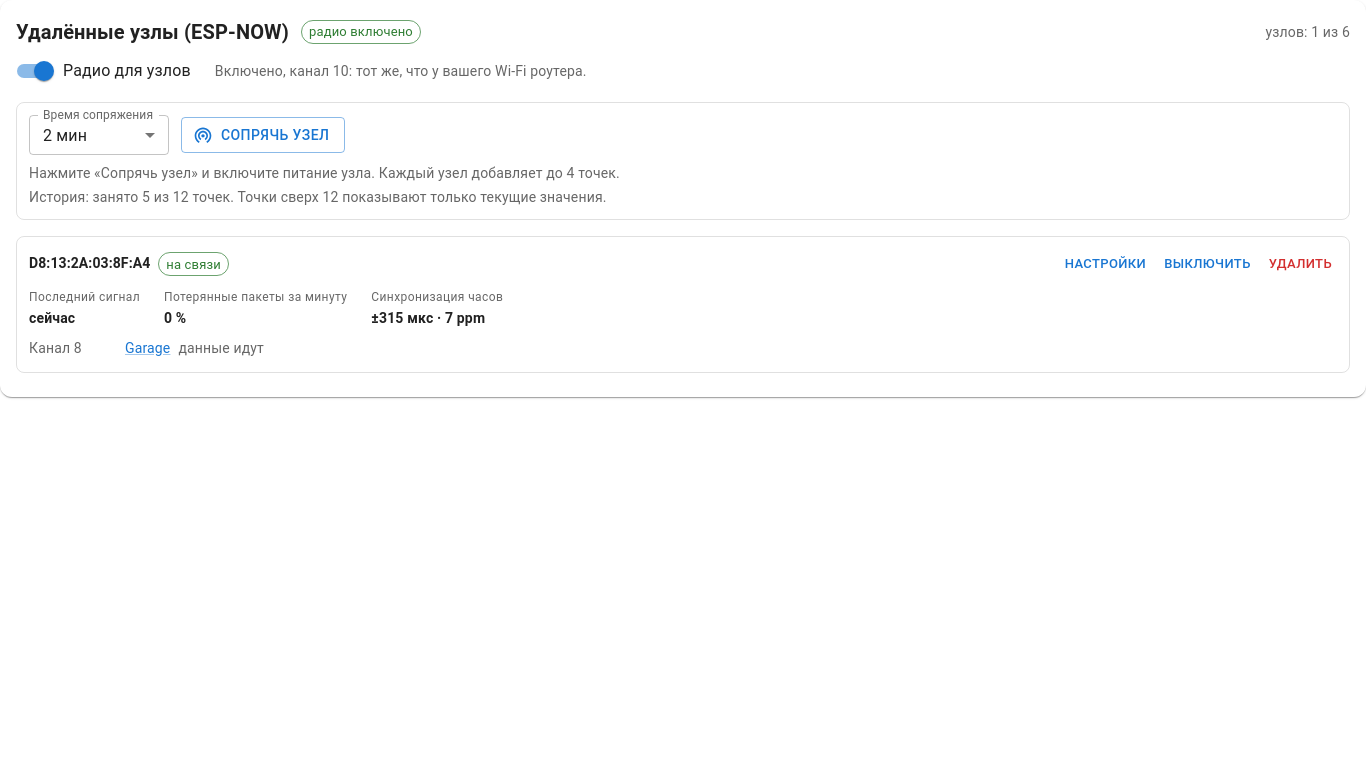
Scenario: NodesPanel (fw 1.1.7, root espnow-nodes-ui) › the dialog starts from the hub's config[] (ESPNOW_API aeacb18), not the channel list
The width and height of the screenshot is (1366, 768).
Step 1. Click the button "Настройки" → (1105, 264), box top-left (1060, 249), bottom-right (1151, 280)
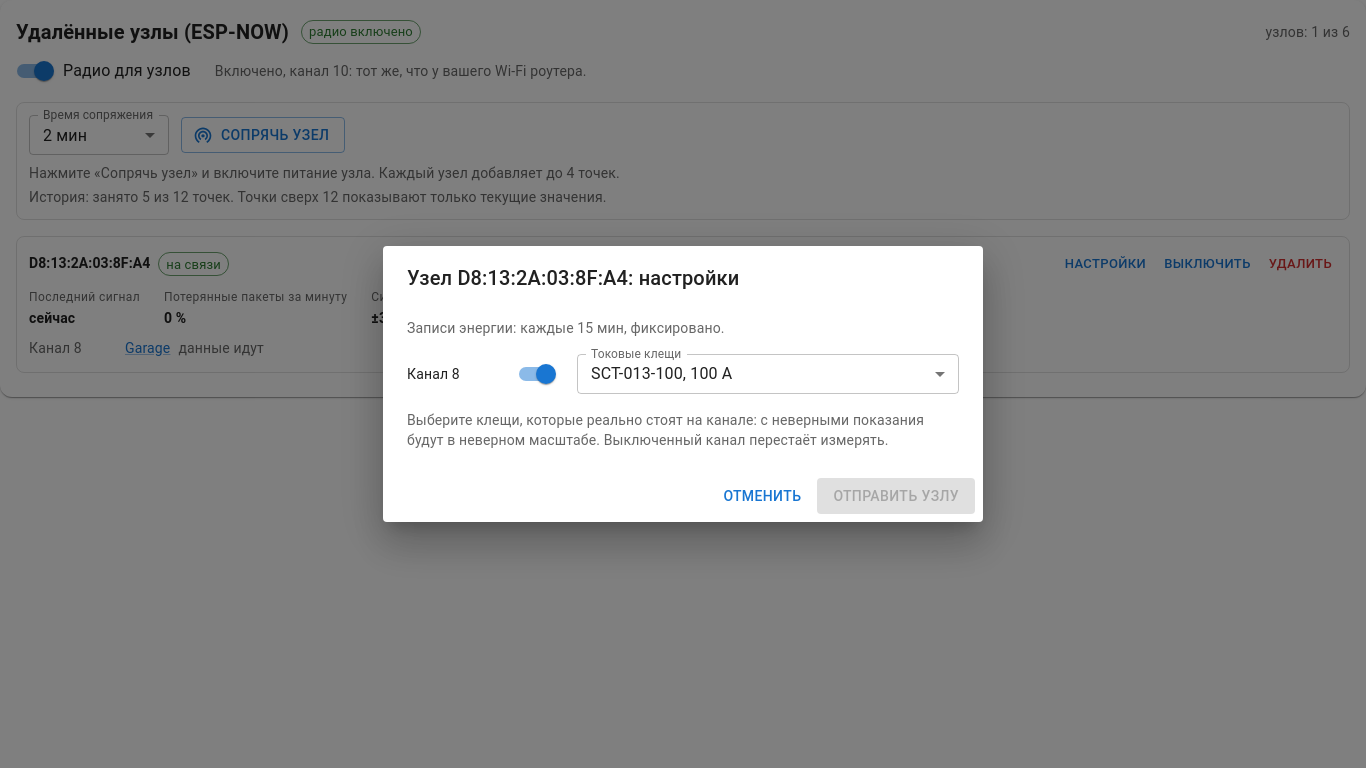
Check: the dropdown "SCT-013-100, 100 A" is shown, box top-left (591, 364), bottom-right (732, 383)
